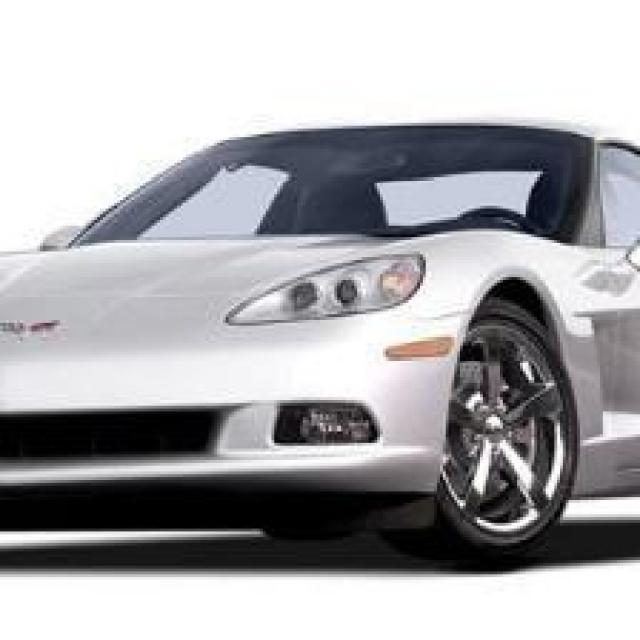damaged: (557, 288, 637, 468)
